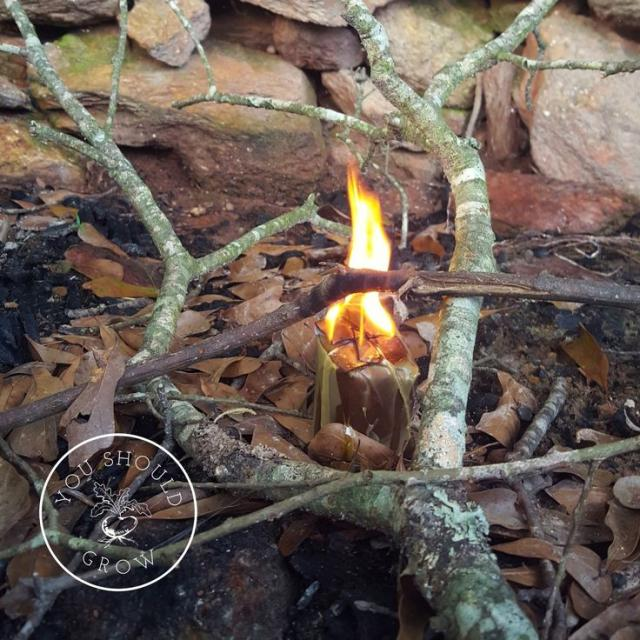fire: (325, 162, 396, 346)
